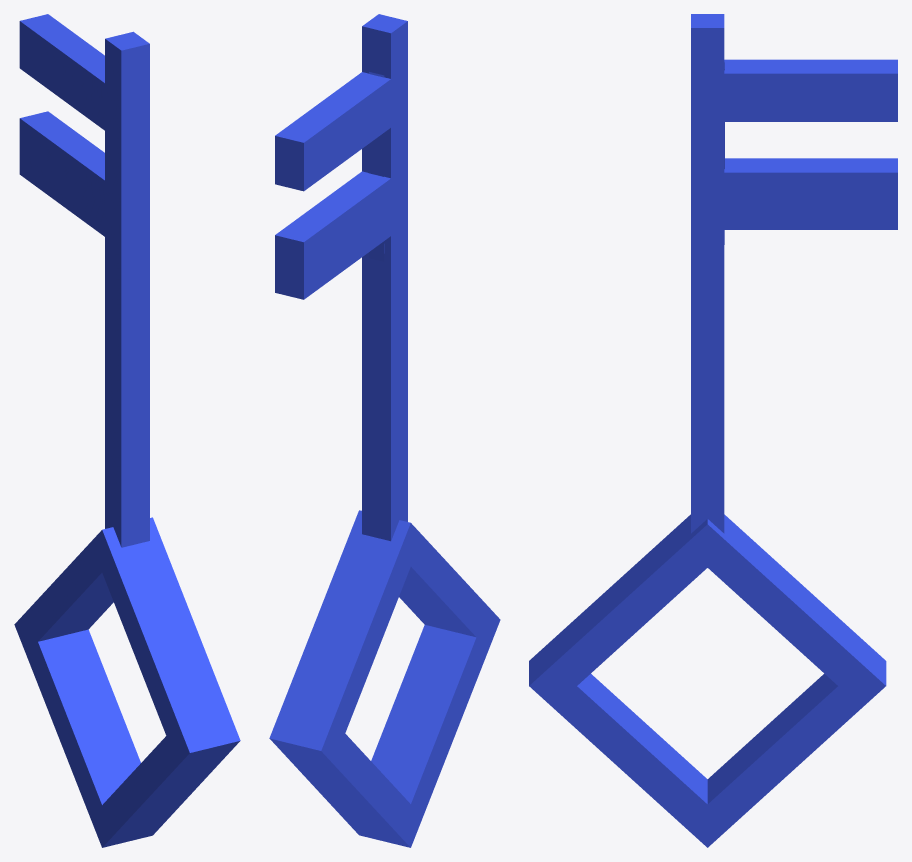
The model's file is key2.fbx.
3 renders of one model, left to right at view 1: azimuth 30°, elevation 25°; view 2: azimuth 150°, elevation 25°; view 3: azimuth 270°, elevation 25°, orthographic. The views are drawn at different scales.
Visible parts, largest first — view 1: Cube; view 2: Cube; view 3: Cube.
Boxes of the visible parts, x1,y1,x2,y2 form: Cube: [14, 14, 240, 847]; Cube: [269, 14, 500, 847]; Cube: [529, 14, 897, 847].
Size of the model in its own units: 35.52 by 536 by 220.
